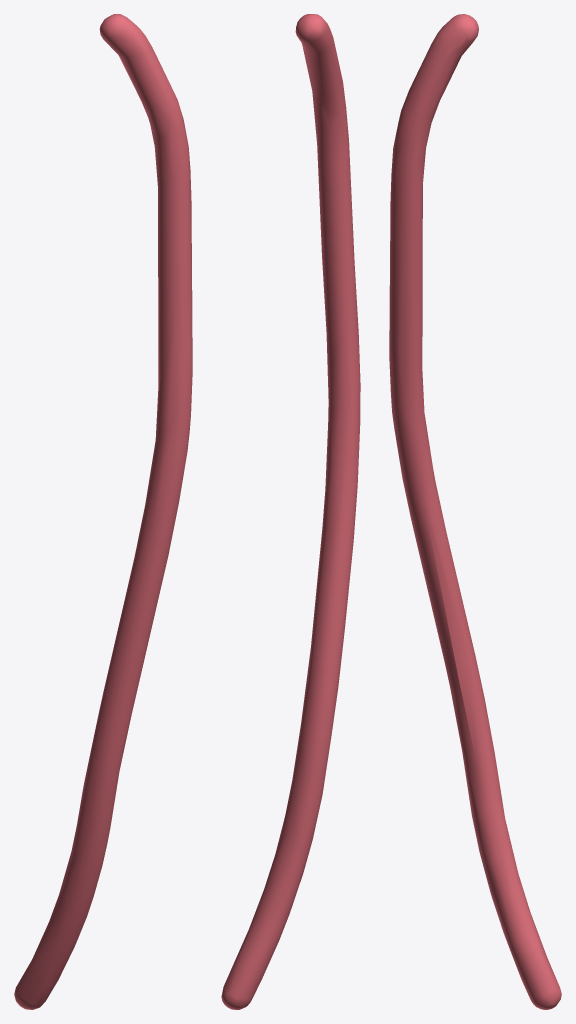
The model's file is fma20732_fj2074.glb.
The picture shows the model from 3 angles, left to right: view 1: azimuth 90°, elevation 25°; view 2: azimuth 150°, elevation 25°; view 3: azimuth 270°, elevation 25°; orthographic projection. The views are drawn at different scales.
Visible parts, largest first — view 1: FMA20732_FJ2074; view 2: FMA20732_FJ2074; view 3: FMA20732_FJ2074.
Boxes of the visible parts, x1,y1,x2,y2 form: FMA20732_FJ2074: (14,14,192,1009); FMA20732_FJ2074: (221,14,360,1009); FMA20732_FJ2074: (389,14,561,1009).
Size of the model in its own units: 0.028 by 0.36 by 0.0576.
